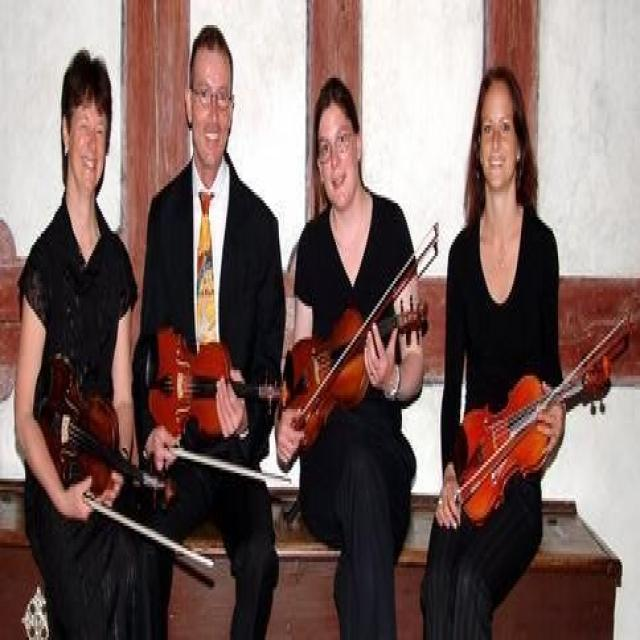violin: (452, 350, 613, 528), (33, 350, 182, 514), (281, 297, 431, 453), (145, 323, 293, 434)
